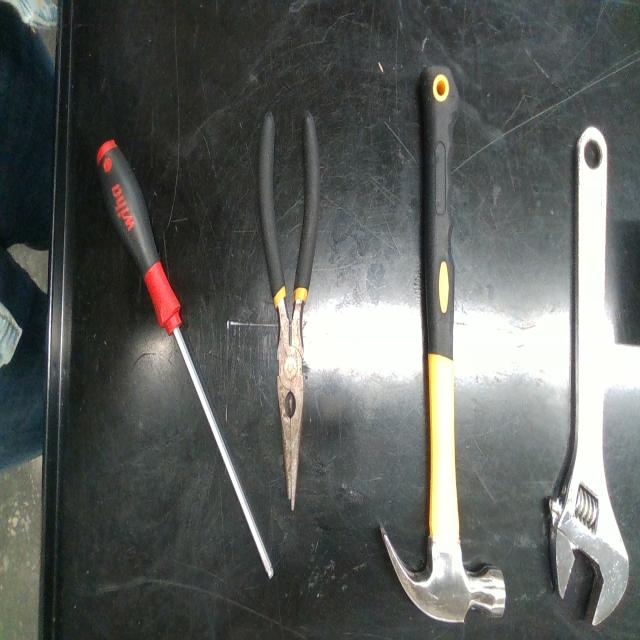Screwdriver: (96, 140, 274, 578)
